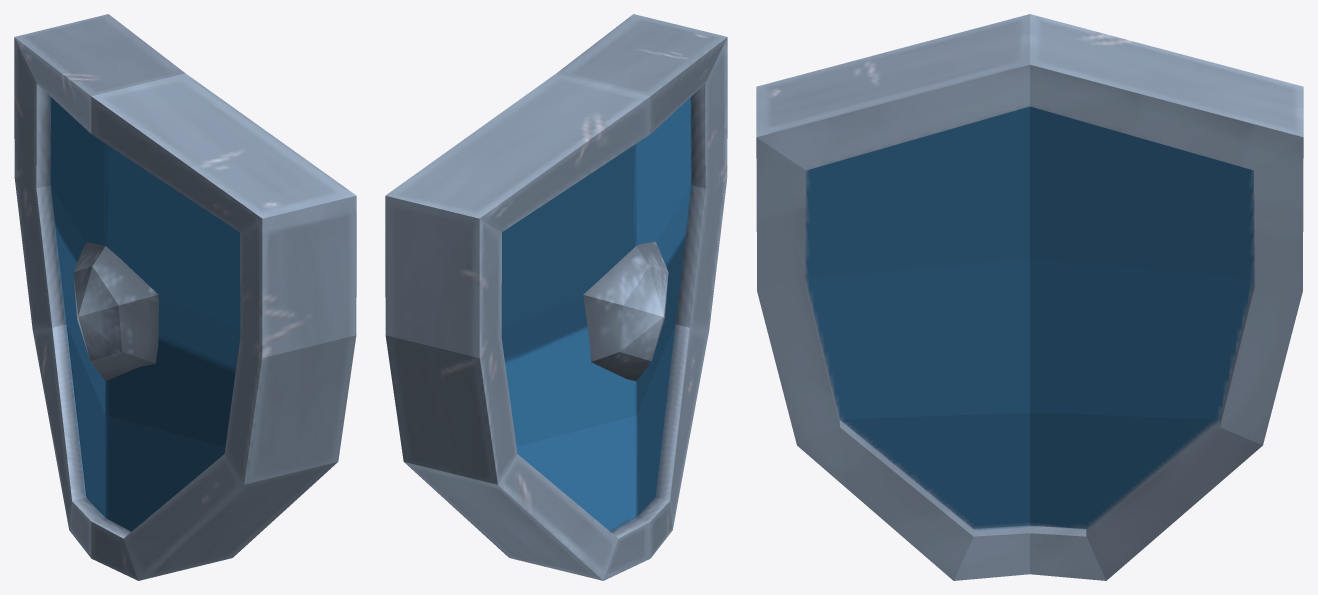
The picture shows the model from 3 angles, left to right: view 1: azimuth 30°, elevation 25°; view 2: azimuth 150°, elevation 25°; view 3: azimuth 270°, elevation 25°; orthographic projection. The views are drawn at different scales.
Visible parts, largest first — view 1: Escudo_0; view 2: Escudo_0; view 3: Escudo_0.
Boxes of the visible parts, left/top/right/bottom form: Escudo_0: left=14, top=14, right=356, bottom=580; Escudo_0: left=385, top=14, right=727, bottom=580; Escudo_0: left=756, top=14, right=1303, bottom=580.
Bounding box in the file's own units: 0.2288 × 0.6548 × 0.6372.
1 material, 1 textured.
